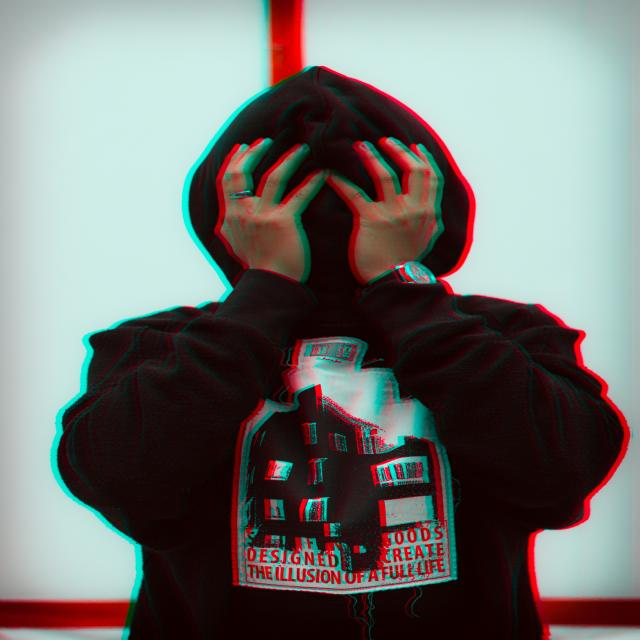Hoodie: (0, 36, 630, 630)
